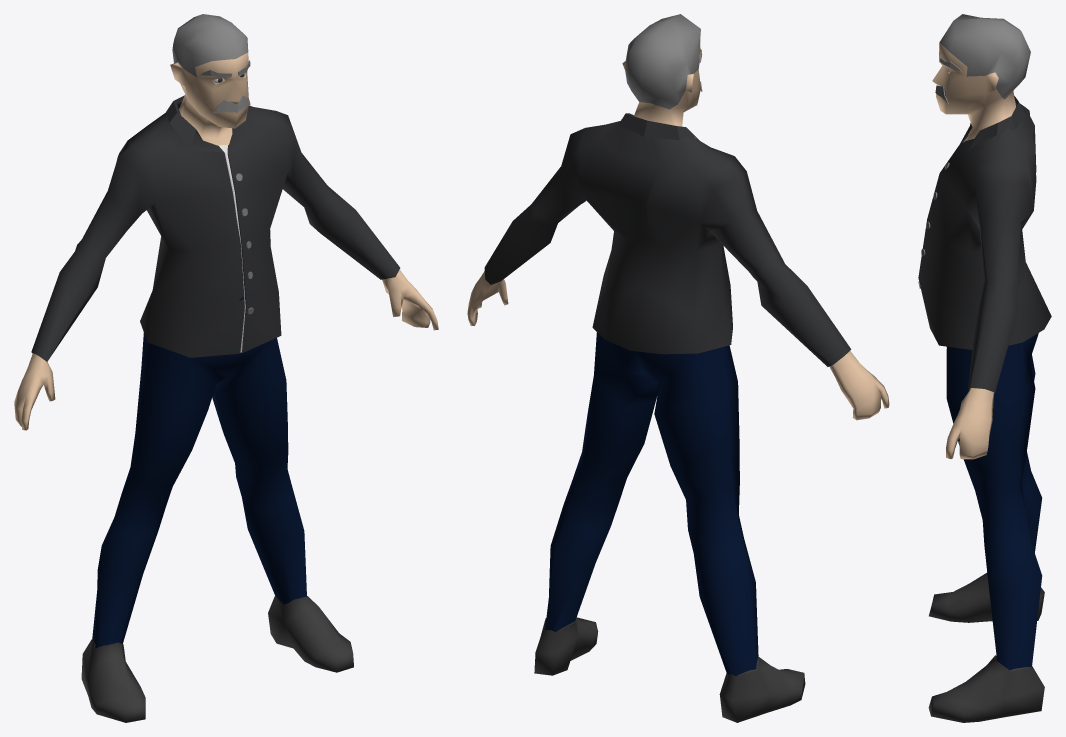
The model's file is minister_rich_run.fbx.
3 views of the same model, side by side, from view 1: azimuth 30°, elevation 25°; view 2: azimuth 150°, elevation 25°; view 3: azimuth 270°, elevation 25° (orthographic). The views are drawn at different scales.
Parts seen in each view (by area): view 1: polySurface11, polySurface4, polySurface12, polySurface14; view 2: polySurface11, polySurface4, polySurface12, polySurface14; view 3: polySurface11, polySurface4, polySurface12, polySurface14, polySurface8.
Boxes of the visible parts, <box> form: polySurface11: <box>31,14,400,361</box>; polySurface4: <box>92,297,306,648</box>; polySurface12: <box>81,596,353,722</box>; polySurface14: <box>14,269,438,430</box>; polySurface11: <box>484,14,851,366</box>; polySurface4: <box>545,332,758,676</box>; polySurface12: <box>534,617,805,722</box>; polySurface14: <box>467,271,889,420</box>; polySurface11: <box>918,14,1051,393</box>; polySurface4: <box>946,333,1042,670</box>; polySurface12: <box>928,572,1044,722</box>; polySurface14: <box>946,388,994,459</box>; polySurface8: <box>935,57,961,103</box>.
Bounding box in the file's own units: 11.68 × 17.65 × 3.32.
